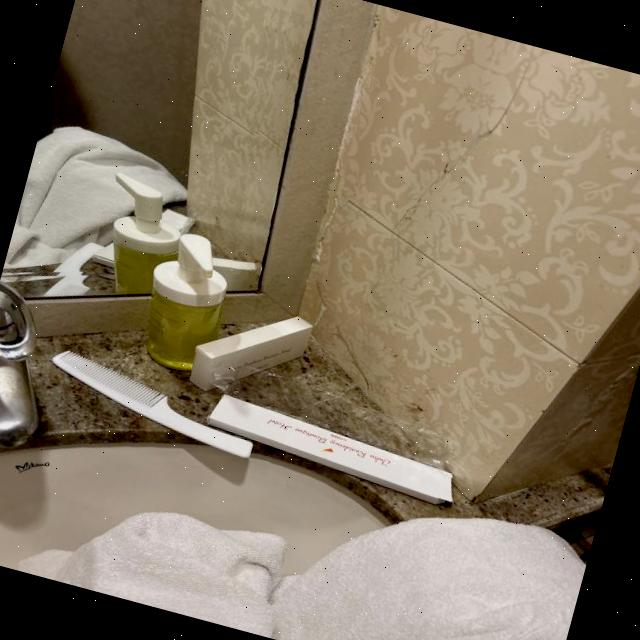disorganized_towel: (6, 517, 585, 640)
mess: (59, 312, 478, 520)
messy_sink: (0, 273, 479, 640)
